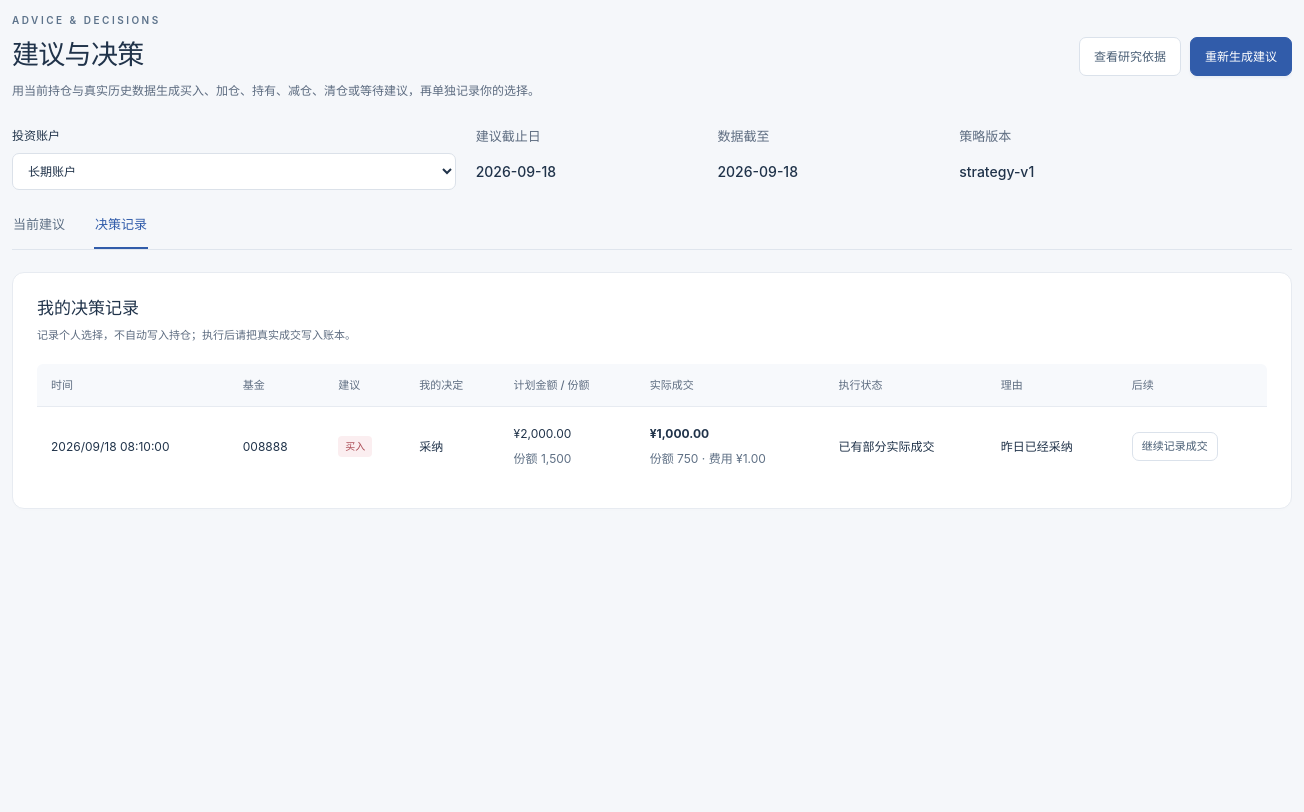
Test: 正式交易流程 › 建议跨日后仍允许把实际成交关联到已经采纳的决定
This screenshot has width=1304, height=812.
Expected: the text "已有部分实际成交" is shown, x1=824 y1=406 x2=987 y2=486
Click the button "当前建议": (39, 232) x1=12 y1=214 x2=66 y2=249
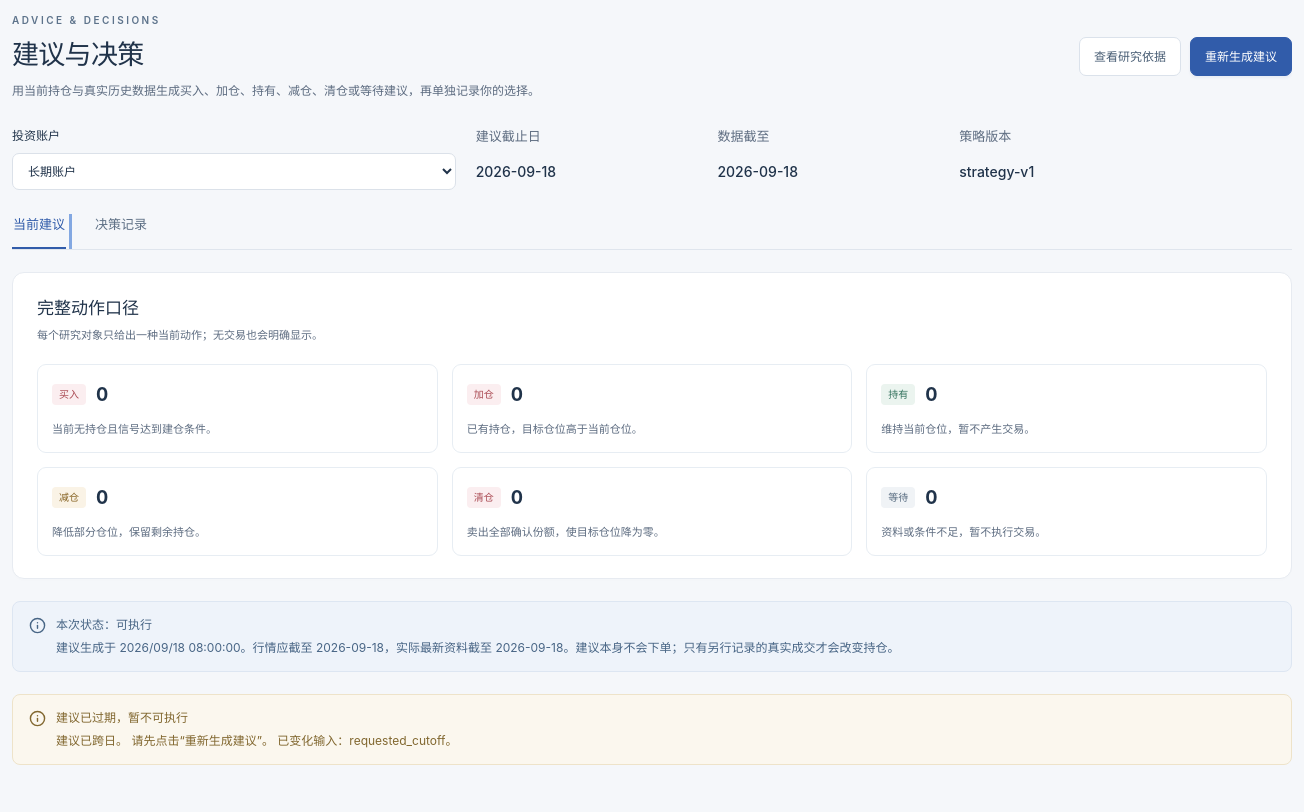
Expected: the text "建议已过期，暂不可执行" is shown, x1=56 y1=710 x2=188 y2=725
